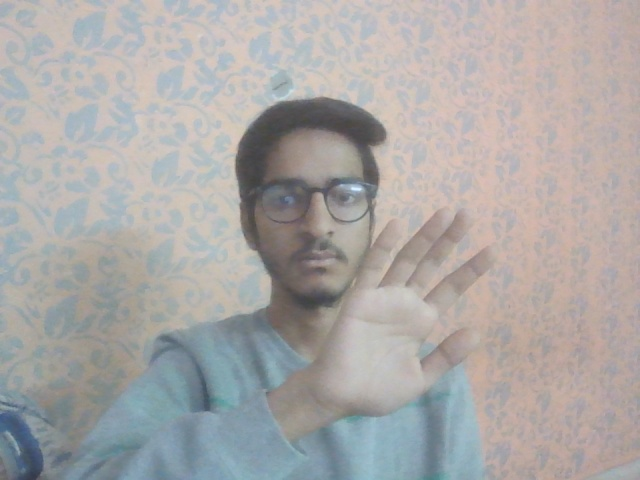Hello: (304, 203, 499, 419)
